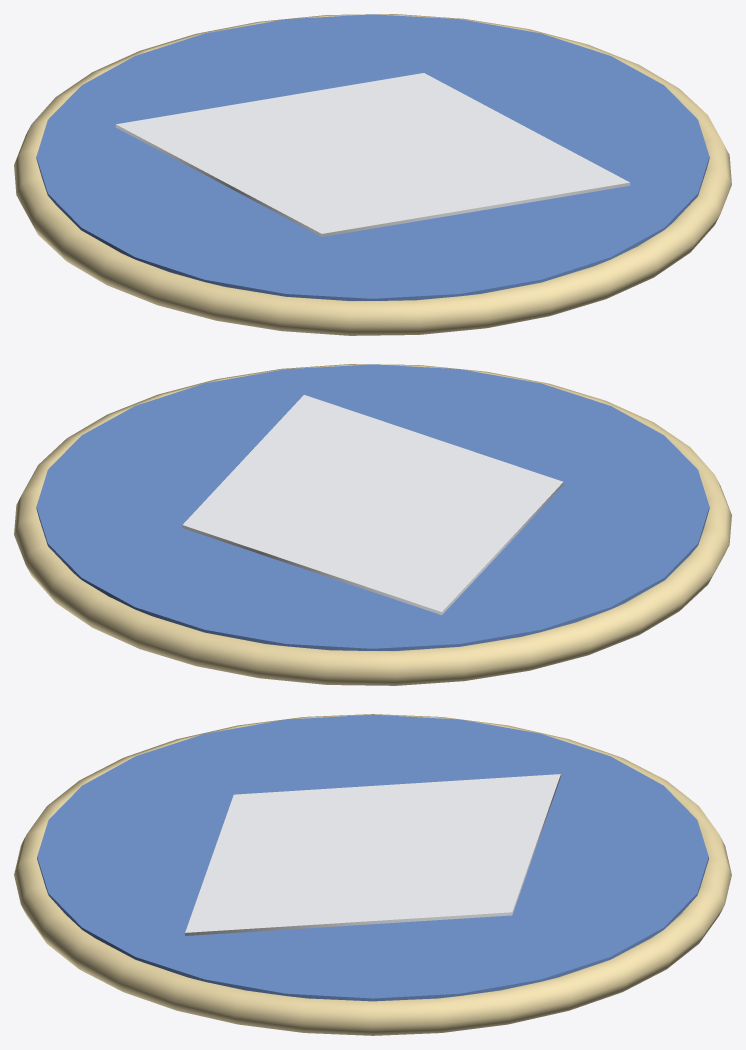
The model's file is aster_left.glb.
3 renders of one model, top to bottom at view 1: azimuth 30°, elevation 25°; view 2: azimuth 150°, elevation 25°; view 3: azimuth 270°, elevation 25°, orthographic.
Parts seen in each view (by area): view 1: aster_left; view 2: aster_left; view 3: aster_left.
Part boxes in pixels (<box>): aster_left: <box>14,14,731,335</box>; aster_left: <box>14,364,731,685</box>; aster_left: <box>14,714,731,1035</box>.
Bounding box in the file's own units: 0.62 × 0.1045 × 0.62.
